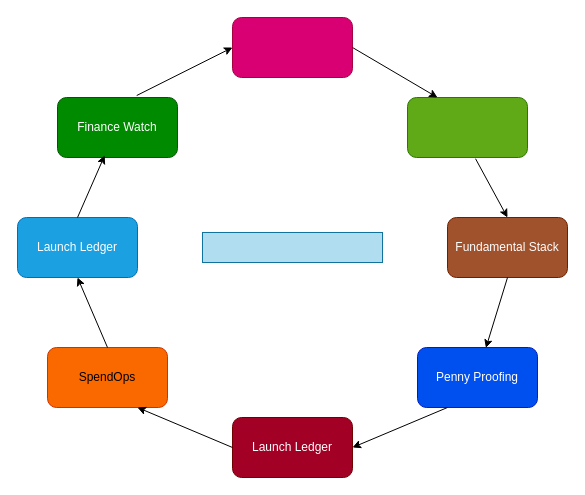
Some shapes in this 585 by 495 pixel diagram are drawn without their labels. The shapes that lost their labels are listed below. From the top down, each one's centre as x and y in pixels, then its label:
[292,47]: Budget Blueprint
[467,127]: Code & c coin
[292,247]: SAVEMATE DevOps Lifecycle
